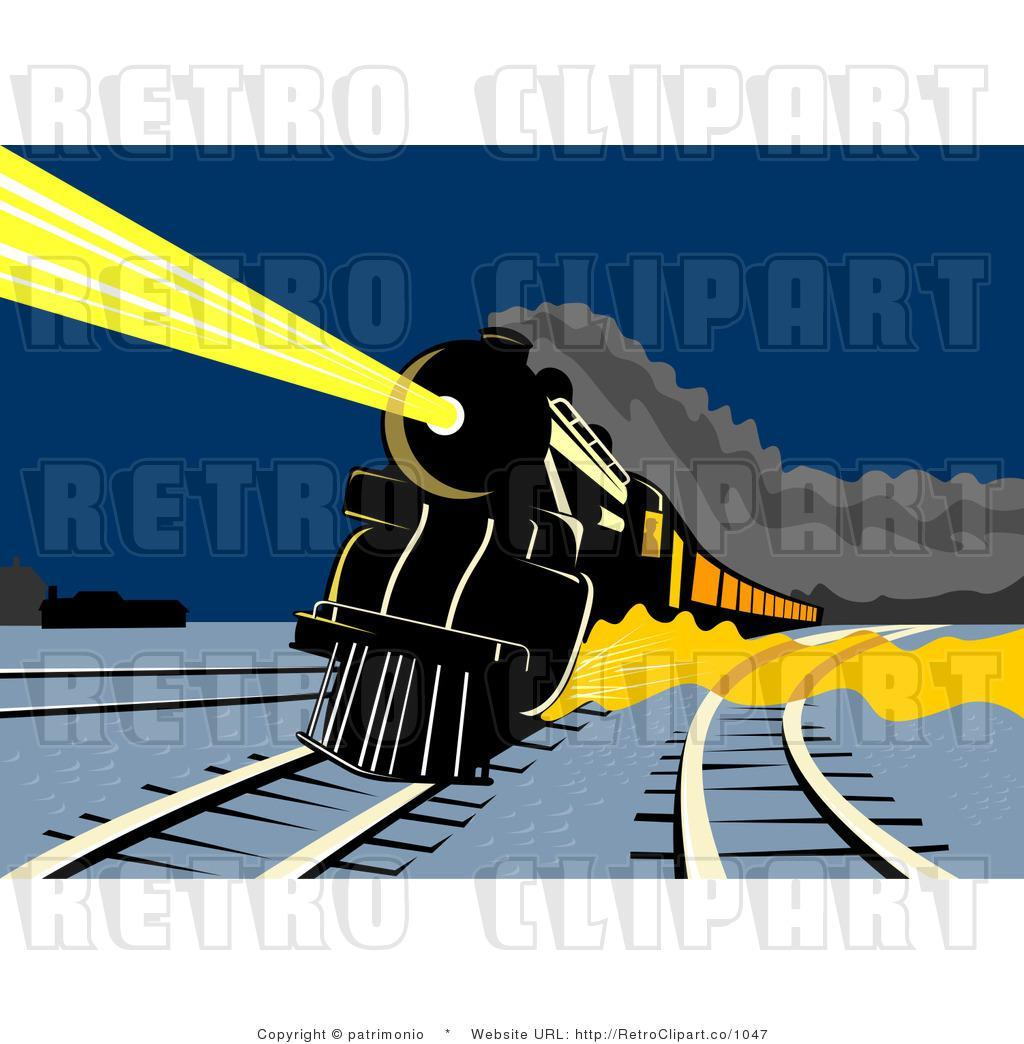train: (282, 304, 815, 796)
